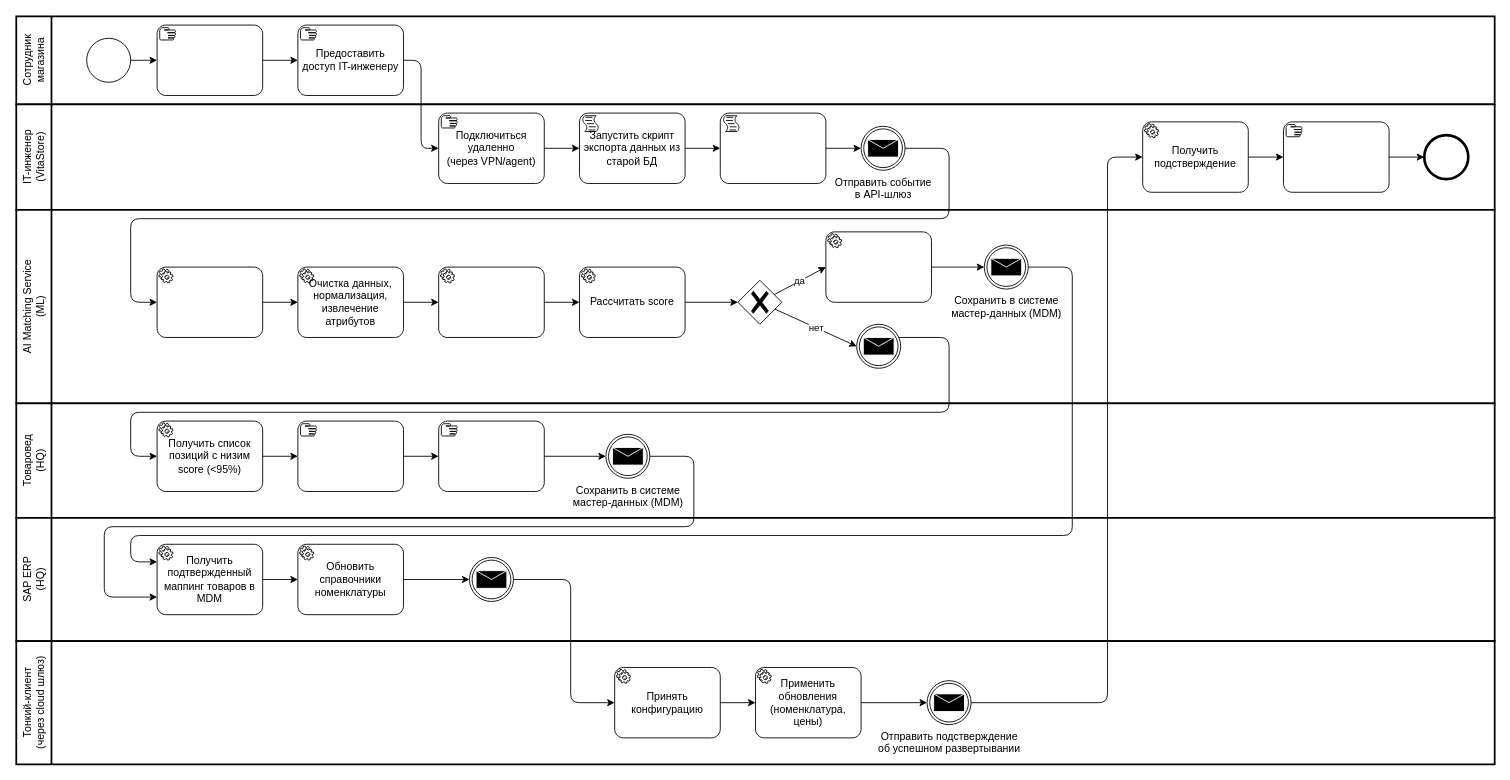
This 1510x780 diagram has some shape labels left out. Here are the shapes that lost their labels. From the top down, the centre of each, then its label:
(209,59): Подключить старую кассу к сети
(772,147): Загрузить сырые данные в S3 хранилище
(1336,156): Подтвердить открытие магазина
(878,266): Автоматически утвердить маппинг товара
(209,301): Получить сырые данные из S3
(491,301): Выполнить автоматический маппинг
(759,301): score > 95%
(878,345): Направить на ручную верификацию товароведу
(350,455): Сопоставить вручную (с подсказками)
(491,455): Подтвердить или создать новый код продукта
(491,579): Отправить конфигурацию на клиент через cloud шлюз
